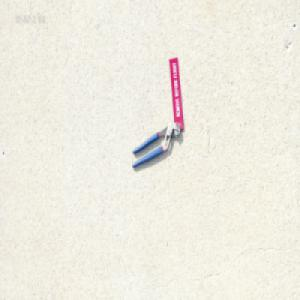Label: (166, 55, 183, 129)
Pliers: (130, 120, 180, 169)
